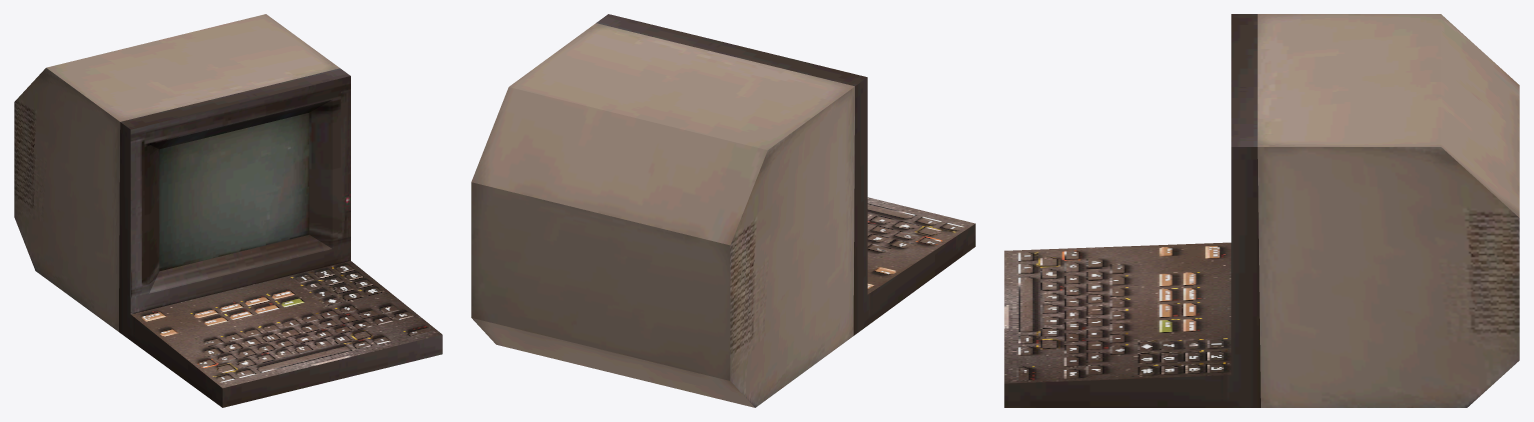
The model's file is Minitel.FBX.
The picture shows the model from 3 angles, left to right: view 1: azimuth 30°, elevation 25°; view 2: azimuth 150°, elevation 25°; view 3: azimuth 270°, elevation 25°; orthographic projection. The views are drawn at different scales.
Visible parts, largest first — view 1: Minitel; view 2: Minitel; view 3: Minitel.
Boxes of the visible parts, bbox=[...] form: Minitel: bbox=[14, 14, 442, 407]; Minitel: bbox=[471, 14, 975, 407]; Minitel: bbox=[1004, 14, 1519, 407].
Size of the model in its own units: 46.23 by 42.37 by 75.77.
